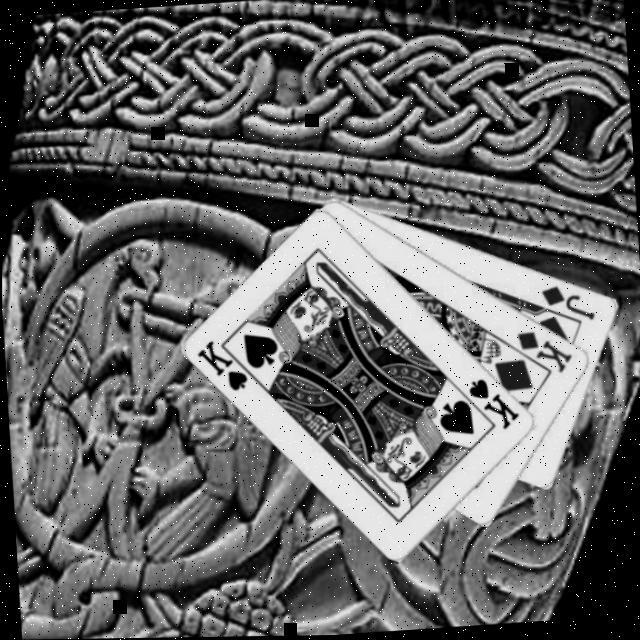JD: (536, 279, 596, 326)
KD: (512, 325, 573, 378)
KS: (191, 333, 260, 395), (462, 373, 522, 435)
